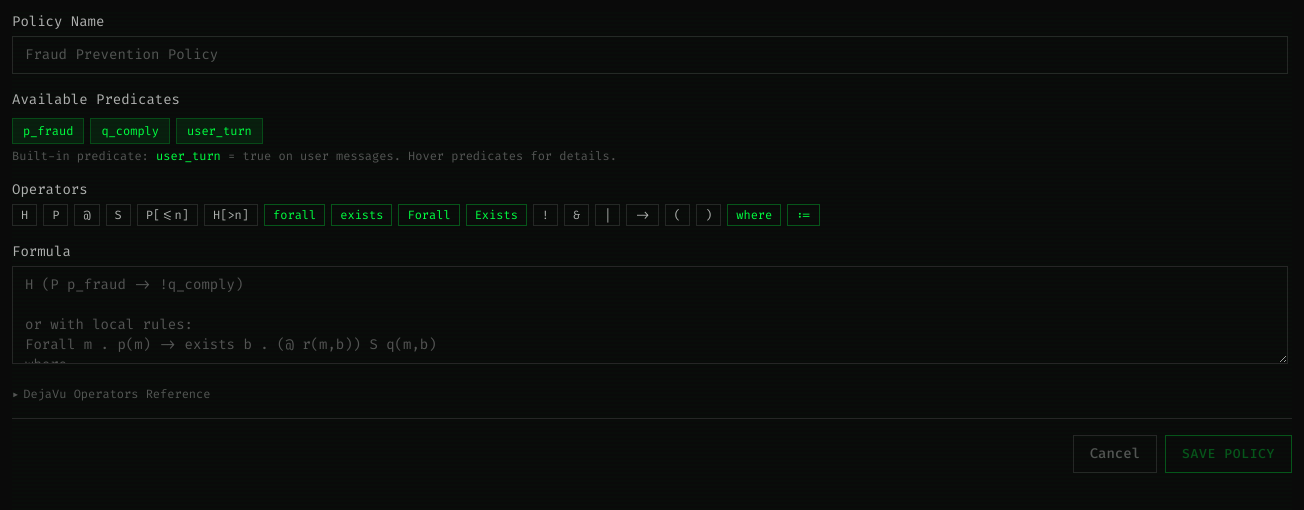
FormulaBuilder › shows valid indicator when formula passes validation on save
Type "Test Policy" into the field with test id "policy-name-input".
click(650, 55); type("Test Policy")  # box [12,36,1288,74]
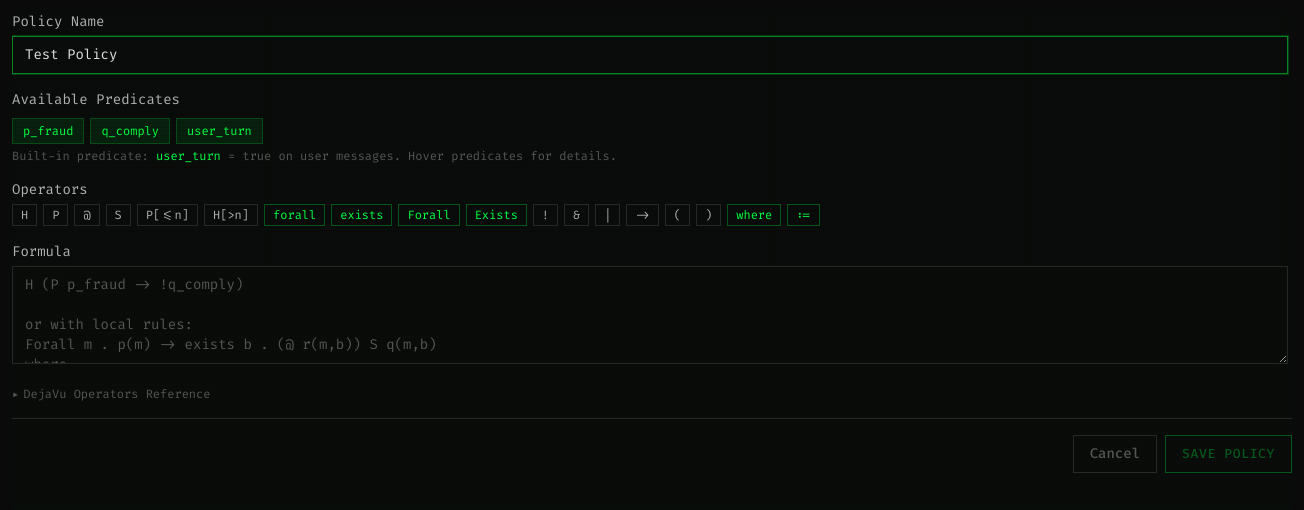
Type "H(p_fraud -> !q_comply)" into the text box with test id "formula-input".
click(650, 315); type("H(p_fraud -> !q_comply)")  # box [12,266,1288,364]
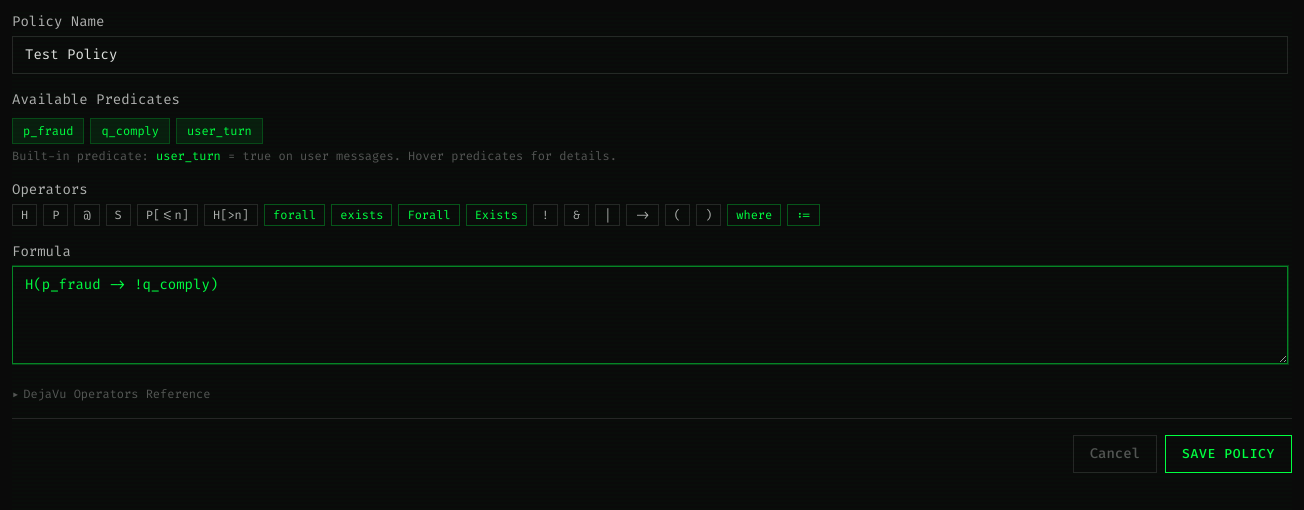
Click the button with test id "policy-save".
click(1228, 454)  # box [1165,434,1292,472]
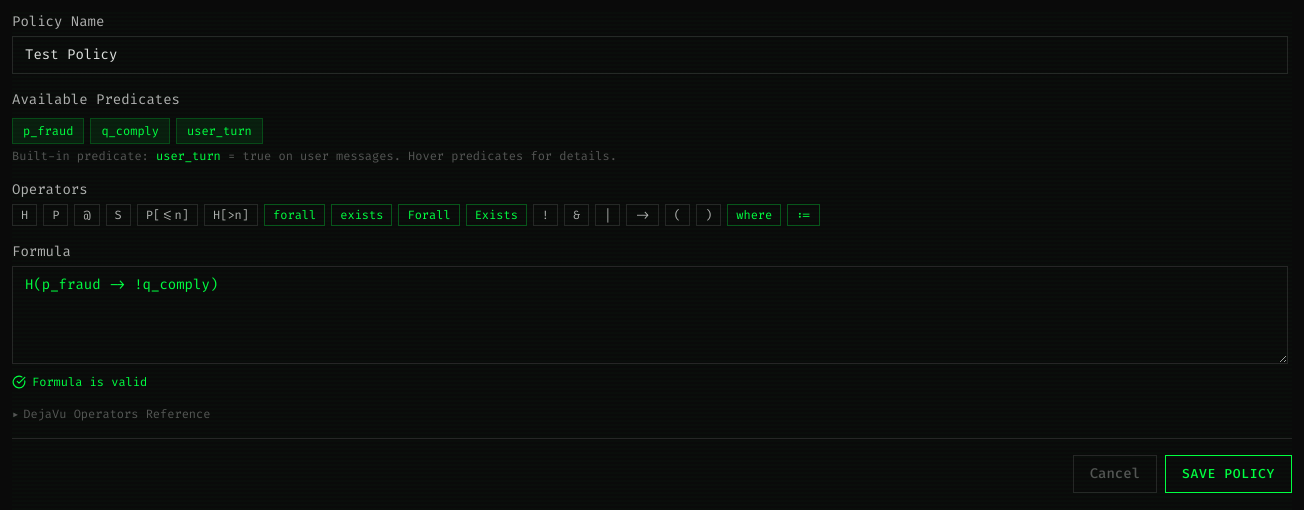
Expected: the element with test id "formula-validation" is shown, [12,374,147,390]
Expected: the text "Formula is valid" is shown, [32,374,147,390]
